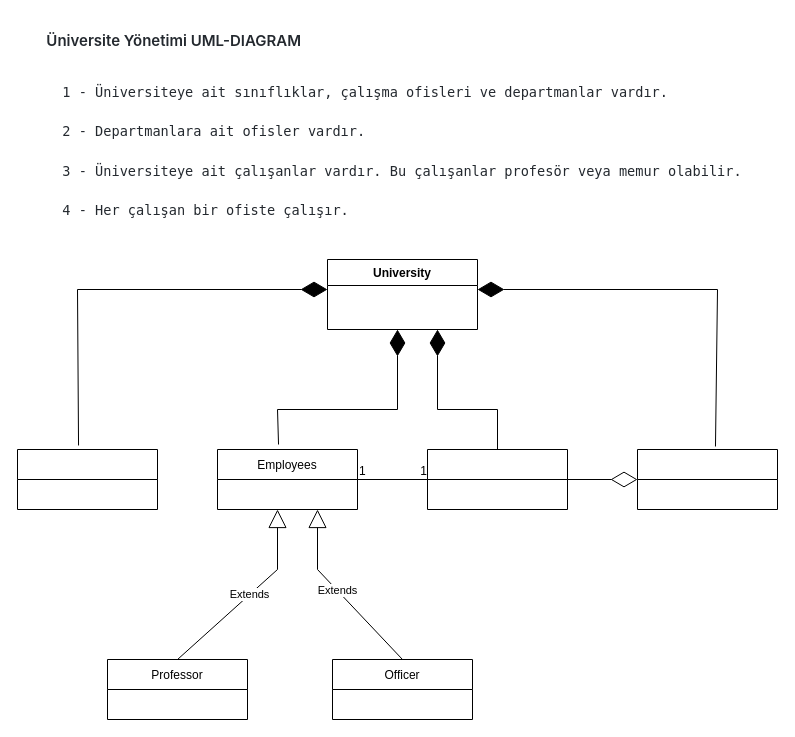
Image size: 795x737. Some labels were removed from this diagram. Here are the shapes that lost their labels. From the top down, the centre of each, then its label:
At pixel 87 479: "Classroom".
At pixel 497 479: "Offices".
At pixel 707 479: "Department".
